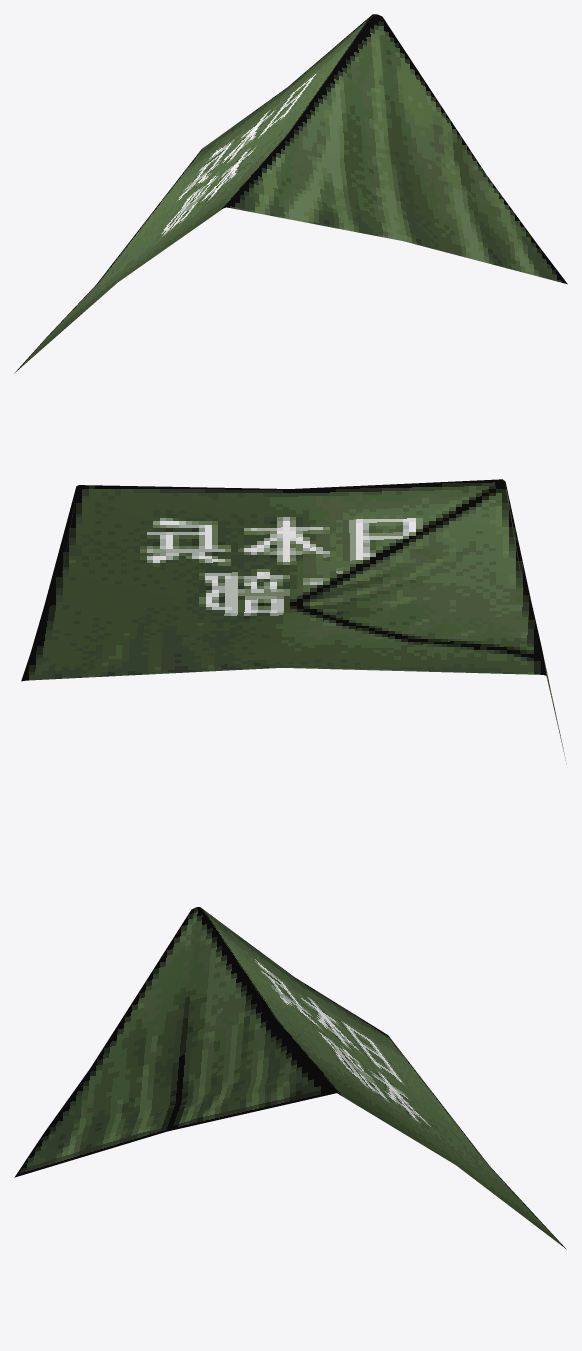
Rendered from ps2_save-icons_simple2000seriesvol120thesaigononihonheiutsukushikikokudodakkansakusen.glb.
3 views of the same model, one above another, from view 1: azimuth 30°, elevation 25°; view 2: azimuth 150°, elevation 25°; view 3: azimuth 270°, elevation 25° (orthographic). The views are drawn at different scales.
Visible parts, largest first — view 1: icon00.ico; view 2: icon00.ico; view 3: icon00.ico.
Boxes of the visible parts, left/top/right/bottom form: icon00.ico: left=14, top=14, right=567, bottom=373; icon00.ico: left=21, top=479, right=566, bottom=763; icon00.ico: left=14, top=907, right=566, bottom=1249.
Size of the model in its own units: 4.53 by 2.12 by 4.35.
1 material, 1 textured.
